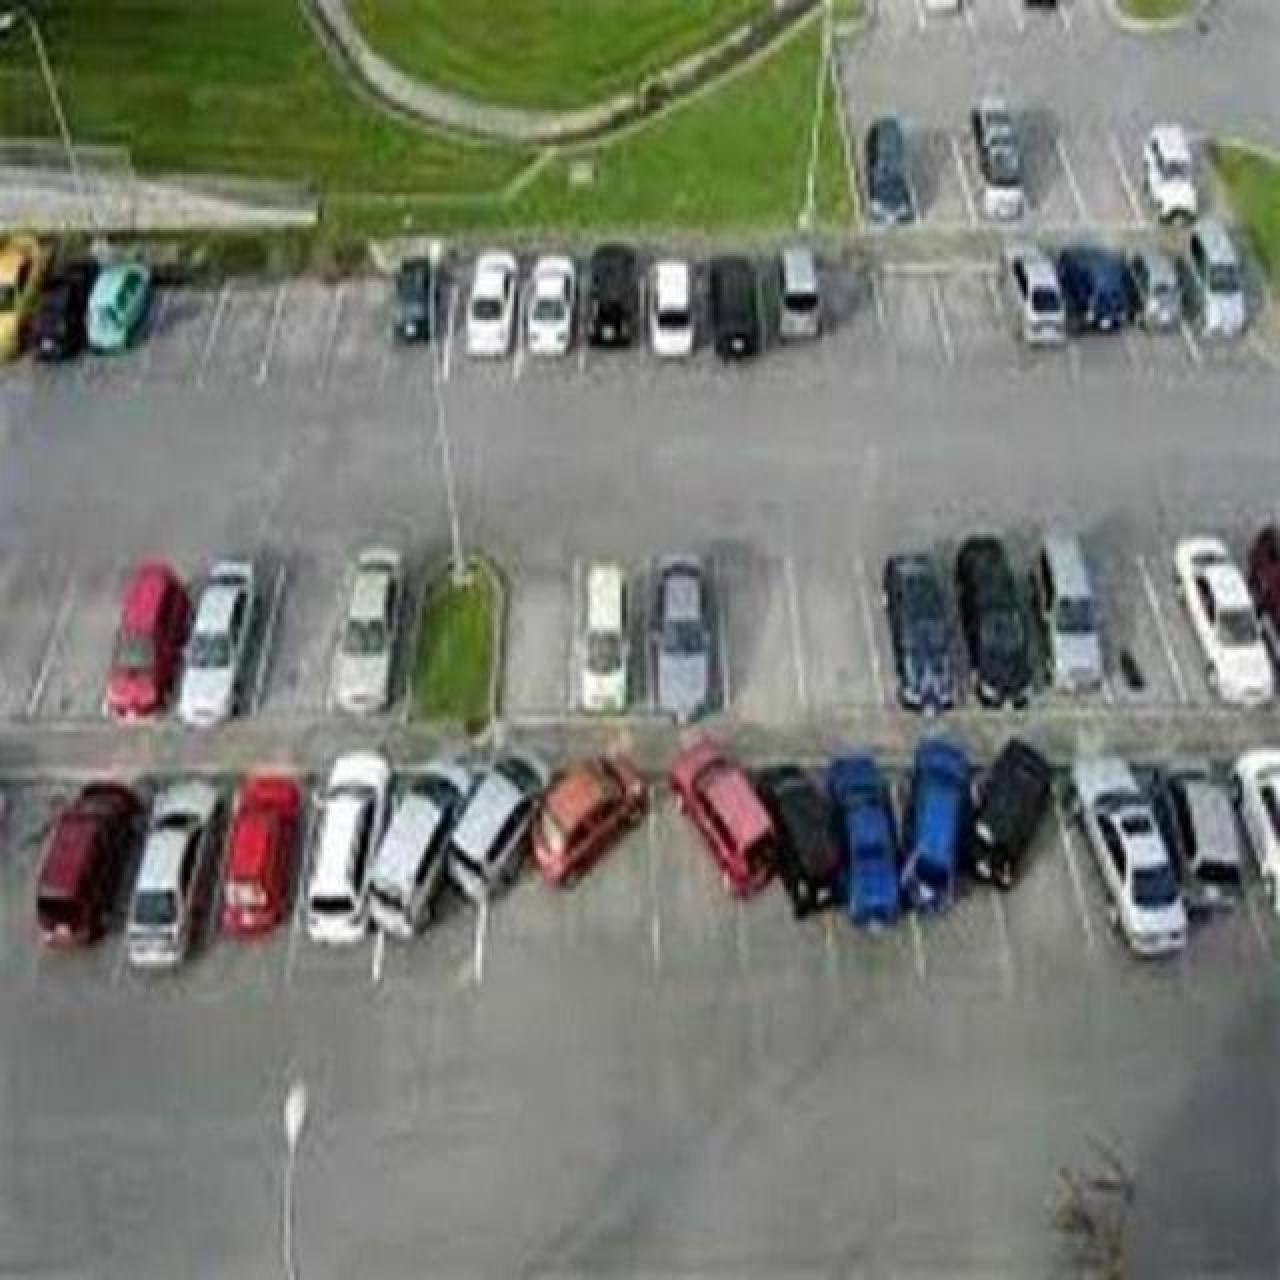car: (1068, 754, 1188, 958), (400, 550, 506, 740), (122, 776, 222, 974), (366, 760, 472, 940), (32, 780, 140, 948), (1170, 532, 1274, 706), (668, 736, 778, 900), (302, 748, 392, 946), (530, 750, 648, 888), (444, 748, 548, 904), (100, 558, 190, 722), (218, 770, 302, 938), (174, 556, 256, 728), (952, 534, 1032, 708), (754, 762, 842, 918), (826, 754, 904, 928), (964, 736, 1052, 890), (328, 544, 406, 716), (1030, 526, 1108, 694), (644, 552, 720, 724), (900, 738, 974, 914), (1158, 768, 1244, 916), (882, 550, 960, 712), (568, 554, 632, 714), (1228, 746, 1278, 916), (1186, 216, 1250, 340), (1056, 242, 1132, 334), (82, 258, 154, 354), (970, 96, 1024, 220), (32, 258, 94, 362), (862, 114, 918, 226), (0, 228, 46, 364), (1008, 244, 1068, 346), (1140, 120, 1198, 224), (464, 248, 518, 358), (708, 254, 760, 362), (586, 242, 638, 348), (524, 252, 576, 358), (1246, 524, 1278, 694), (646, 256, 698, 358), (1126, 240, 1182, 334), (774, 244, 824, 342), (392, 252, 434, 342)
